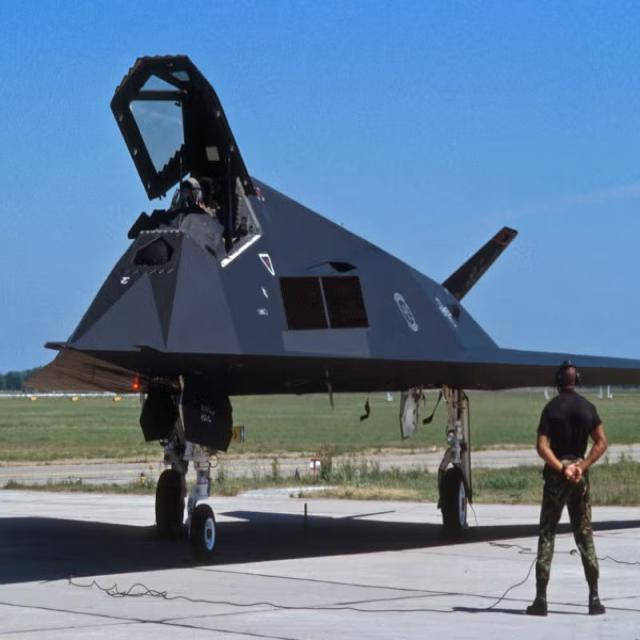F117: (16, 33, 640, 604)
